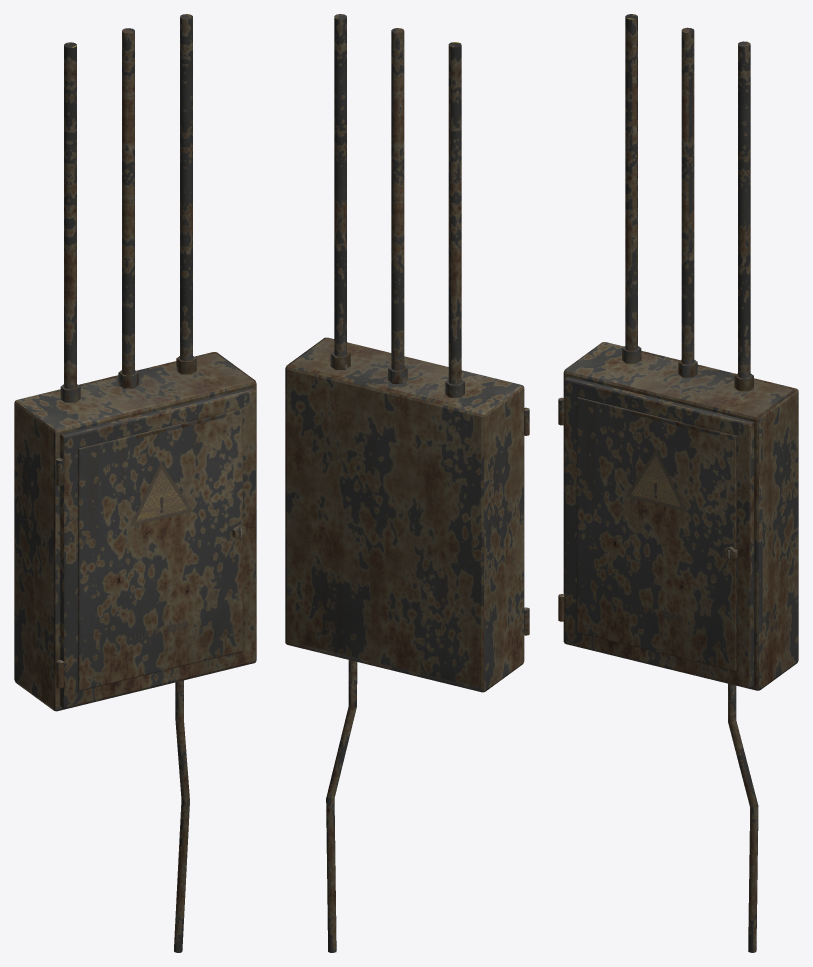
File: Fusebox.fbx
3 views of the same model, side by side, from view 1: azimuth 30°, elevation 25°; view 2: azimuth 150°, elevation 25°; view 3: azimuth 330°, elevation 25° (orthographic). The views are drawn at different scales.
Visible parts, largest first — view 1: Fusebox_Mesh; view 2: Fusebox_Mesh; view 3: Fusebox_Mesh.
Boxes of the visible parts, x1,y1,x2,y2 form: Fusebox_Mesh: (14, 14, 256, 952); Fusebox_Mesh: (285, 14, 529, 952); Fusebox_Mesh: (558, 14, 798, 952).
Size of the model in its own units: 0.4217 by 1.86 by 0.177.
